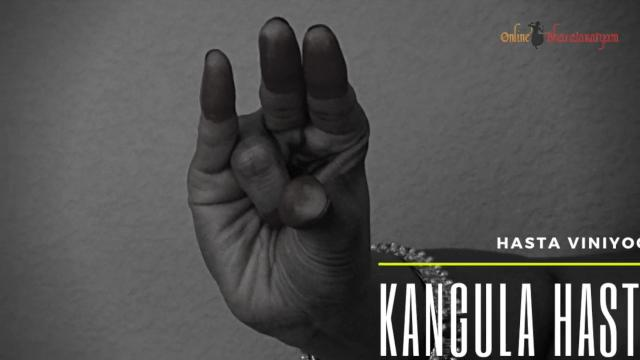kangul: (185, 26, 399, 356)
